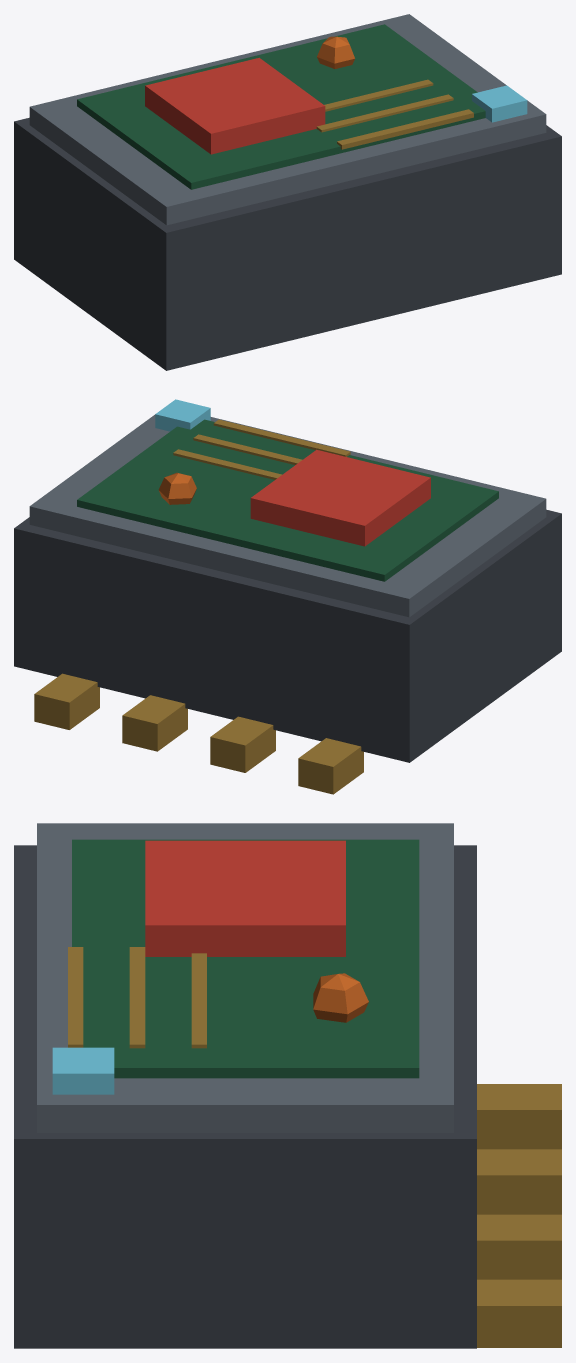
File: droid-fortitude-protocol-mk-1.glb
3 views of the same model, one above another, from view 1: azimuth 30°, elevation 25°; view 2: azimuth 150°, elevation 25°; view 3: azimuth 270°, elevation 25° (orthographic). The views are drawn at different scales.
Parts seen in each view (by area): view 1: m; view 2: m; view 3: m.
Part boxes in pixels (x1,y1,x2,y2): m: (14, 14, 561, 370); m: (14, 399, 561, 794); m: (14, 823, 561, 1348).
Bounding box in the file's own units: 0.1 × 0.0511 × 0.0789.
